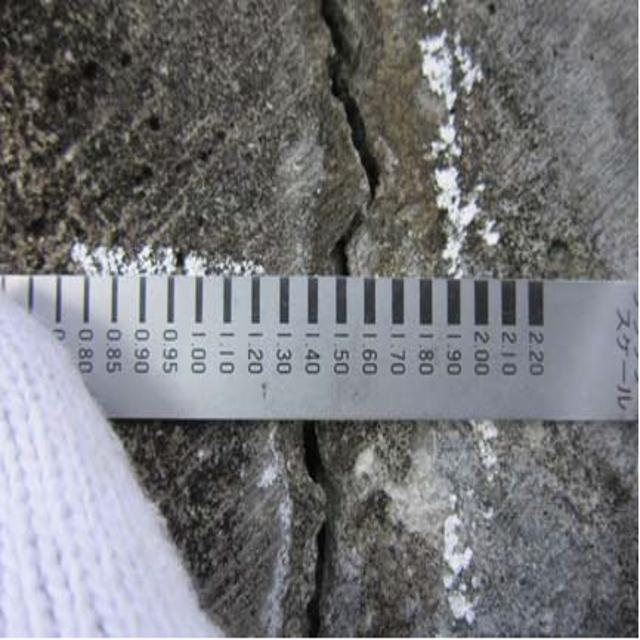crack: (287, 17, 406, 277), (269, 430, 380, 640)
